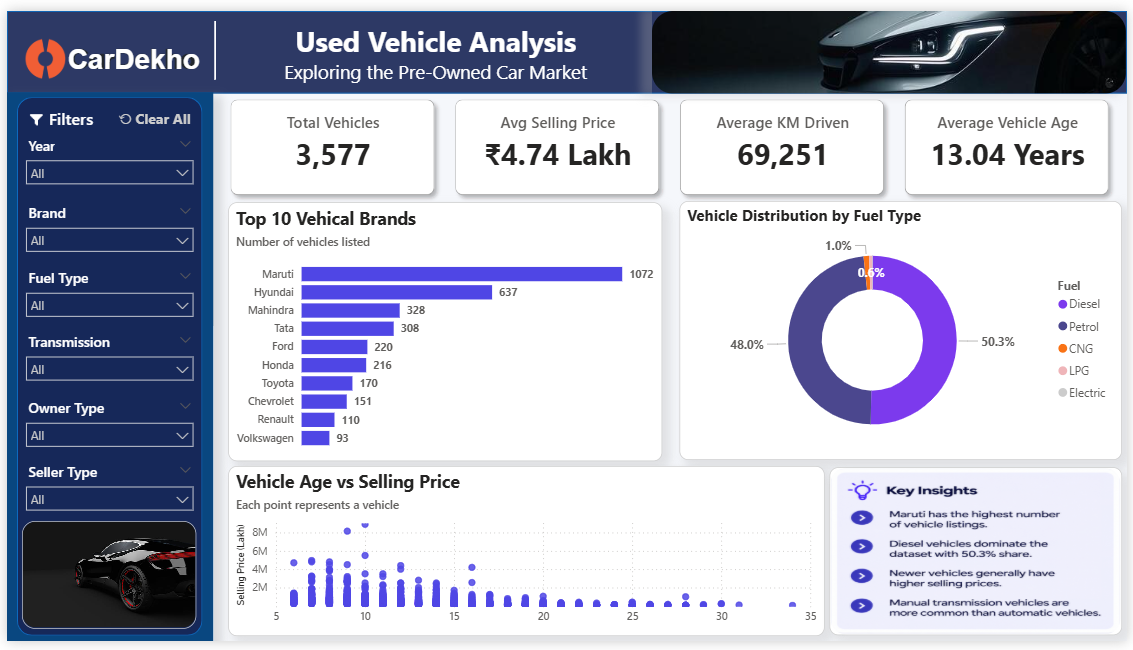

This screenshot's page, from the dashboard's own definition file:
{"tool":"powerbi","page":{"name":"Page 1","canvas":[1280,720],"ordinal":0},"visuals":[{"type":"shape","box":[0,0,1280,94.3],"z":0},{"type":"textbox","box":[252.9,7.1,474.3,95.7],"z":1000},{"type":"shape","box":[0,92.9,235.7,627.1],"z":2000},{"type":"image","box":[0,0,236.5,108.6],"z":3000},{"type":"textbox","box":[64,33,165.3,53.1],"z":4000},{"type":"shape","box":[215.7,11.4,44.3,67.1],"z":5000},{"type":"shape","box":[11.2,98.8,211.8,615.3],"z":6000},{"type":"cardVisual","title":"Average ","fields":{"Data":["vehicle_cleaned.Total Vehicles","vehicle_cleaned.Average Selling Price","vehicle_cleaned.Average KM Driven","vehicle_cleaned.Average Vehicle Age"]},"box":[237.1,82.9,1042.9,145.7],"z":7000},{"type":"clusteredBarChart","title":"Top 10 Vehical Brands","fields":{"Category":["vehicle_cleaned.brand"],"Y":["CountNonNull(vehicle_cleaned.Name)"]},"box":[252.6,218.1,495.7,295.7],"z":8000},{"type":"donutChart","title":"Vehicle Distribution by Fuel Type","fields":{"Category":["vehicle_cleaned.Fuel"],"Y":["CountNonNull(vehicle_cleaned.Name)"]},"box":[768.6,217.8,505.3,295.9],"z":9000},{"type":"scatterChart","title":"Vehicle Age vs Selling Price","fields":{"X":["vehicle_cleaned.vehicle_age"],"Y":["vehicle_cleaned.Selling_price"]},"box":[252.9,520,681.4,194.3],"z":10000},{"type":"slicer","fields":{"Values":["vehicle_cleaned.Year"]},"box":[11.4,137.7,211.4,77.1],"z":11000},{"type":"slicer","fields":{"Values":["vehicle_cleaned.brand"]},"box":[11.4,214.9,211.4,77.1],"z":12000},{"type":"slicer","fields":{"Values":["vehicle_cleaned.Fuel"]},"box":[11.4,289.2,211.4,77.1],"z":13000},{"type":"slicer","fields":{"Values":["vehicle_cleaned.Transmission"]},"box":[11.4,362,211.4,77.1],"z":14000},{"type":"slicer","fields":{"Values":["vehicle_cleaned.Owner"]},"box":[11.4,436.7,211.4,77.1],"z":15000},{"type":"slicer","fields":{"Values":["vehicle_cleaned.Seller_Type"]},"box":[11.4,510.6,211.4,77.1],"z":16000},{"type":"image","box":[17.1,583.6,199.3,122.9],"z":17000},{"type":"image","box":[737.1,0,541.4,94.3],"z":18000},{"type":"textbox","box":[42.4,105,73.6,35.2],"z":19000},{"type":"image","box":[25,114,18.4,18.4],"z":20000},{"type":"image","box":[940,521.8,334.1,192.4],"z":21000},{"type":"actionButton","box":[119.1,102.7,100,40],"z":22000}]}

Visuals, with their boxes in screenshot pixels (x1, y1, x2, y2), scaled from the page's 1280x720 canvas onto the 1133x650 screenshot:
shape: BBox(0, 0, 1132, 85)
textbox: BBox(224, 6, 644, 93)
shape: BBox(0, 84, 209, 649)
image: BBox(0, 0, 209, 98)
textbox: BBox(57, 30, 203, 78)
shape: BBox(191, 10, 230, 71)
shape: BBox(10, 89, 197, 645)
"Average " cardVisual: BBox(210, 75, 1132, 206)
"Top 10 Vehical Brands" clusteredBarChart: BBox(224, 197, 662, 464)
"Vehicle Distribution by Fuel Type" donutChart: BBox(680, 197, 1128, 464)
"Vehicle Age vs Selling Price" scatterChart: BBox(224, 469, 827, 645)
slicer - vehicle_cleaned.Year: BBox(10, 124, 197, 194)
slicer - vehicle_cleaned.brand: BBox(10, 194, 197, 264)
slicer - vehicle_cleaned.Fuel: BBox(10, 261, 197, 331)
slicer - vehicle_cleaned.Transmission: BBox(10, 327, 197, 396)
slicer - vehicle_cleaned.Owner: BBox(10, 394, 197, 464)
slicer - vehicle_cleaned.Seller_Type: BBox(10, 461, 197, 531)
image: BBox(15, 527, 192, 638)
image: BBox(652, 0, 1132, 85)
textbox: BBox(38, 95, 103, 127)
image: BBox(22, 103, 38, 120)
image: BBox(832, 471, 1128, 645)
actionButton: BBox(105, 93, 194, 129)
